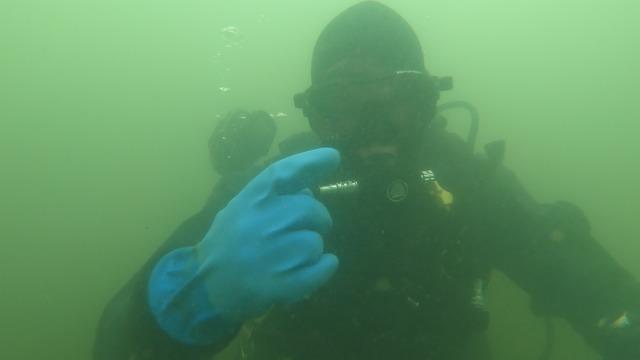Diver: (89, 2, 638, 358)
Hand: (157, 142, 367, 324)
Head: (299, 5, 451, 174)
